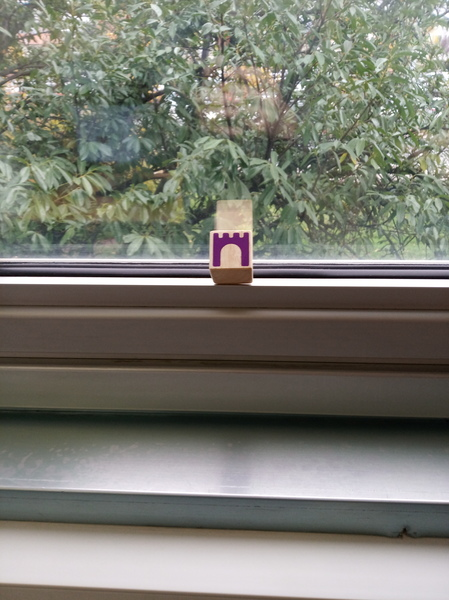violet: (208, 227, 256, 271)
